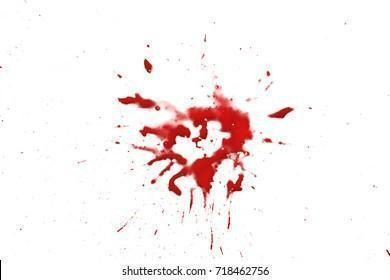Fire: (118, 85, 254, 208), (169, 139, 244, 208), (180, 187, 240, 255), (228, 174, 244, 198), (269, 107, 295, 118), (144, 59, 153, 72)
